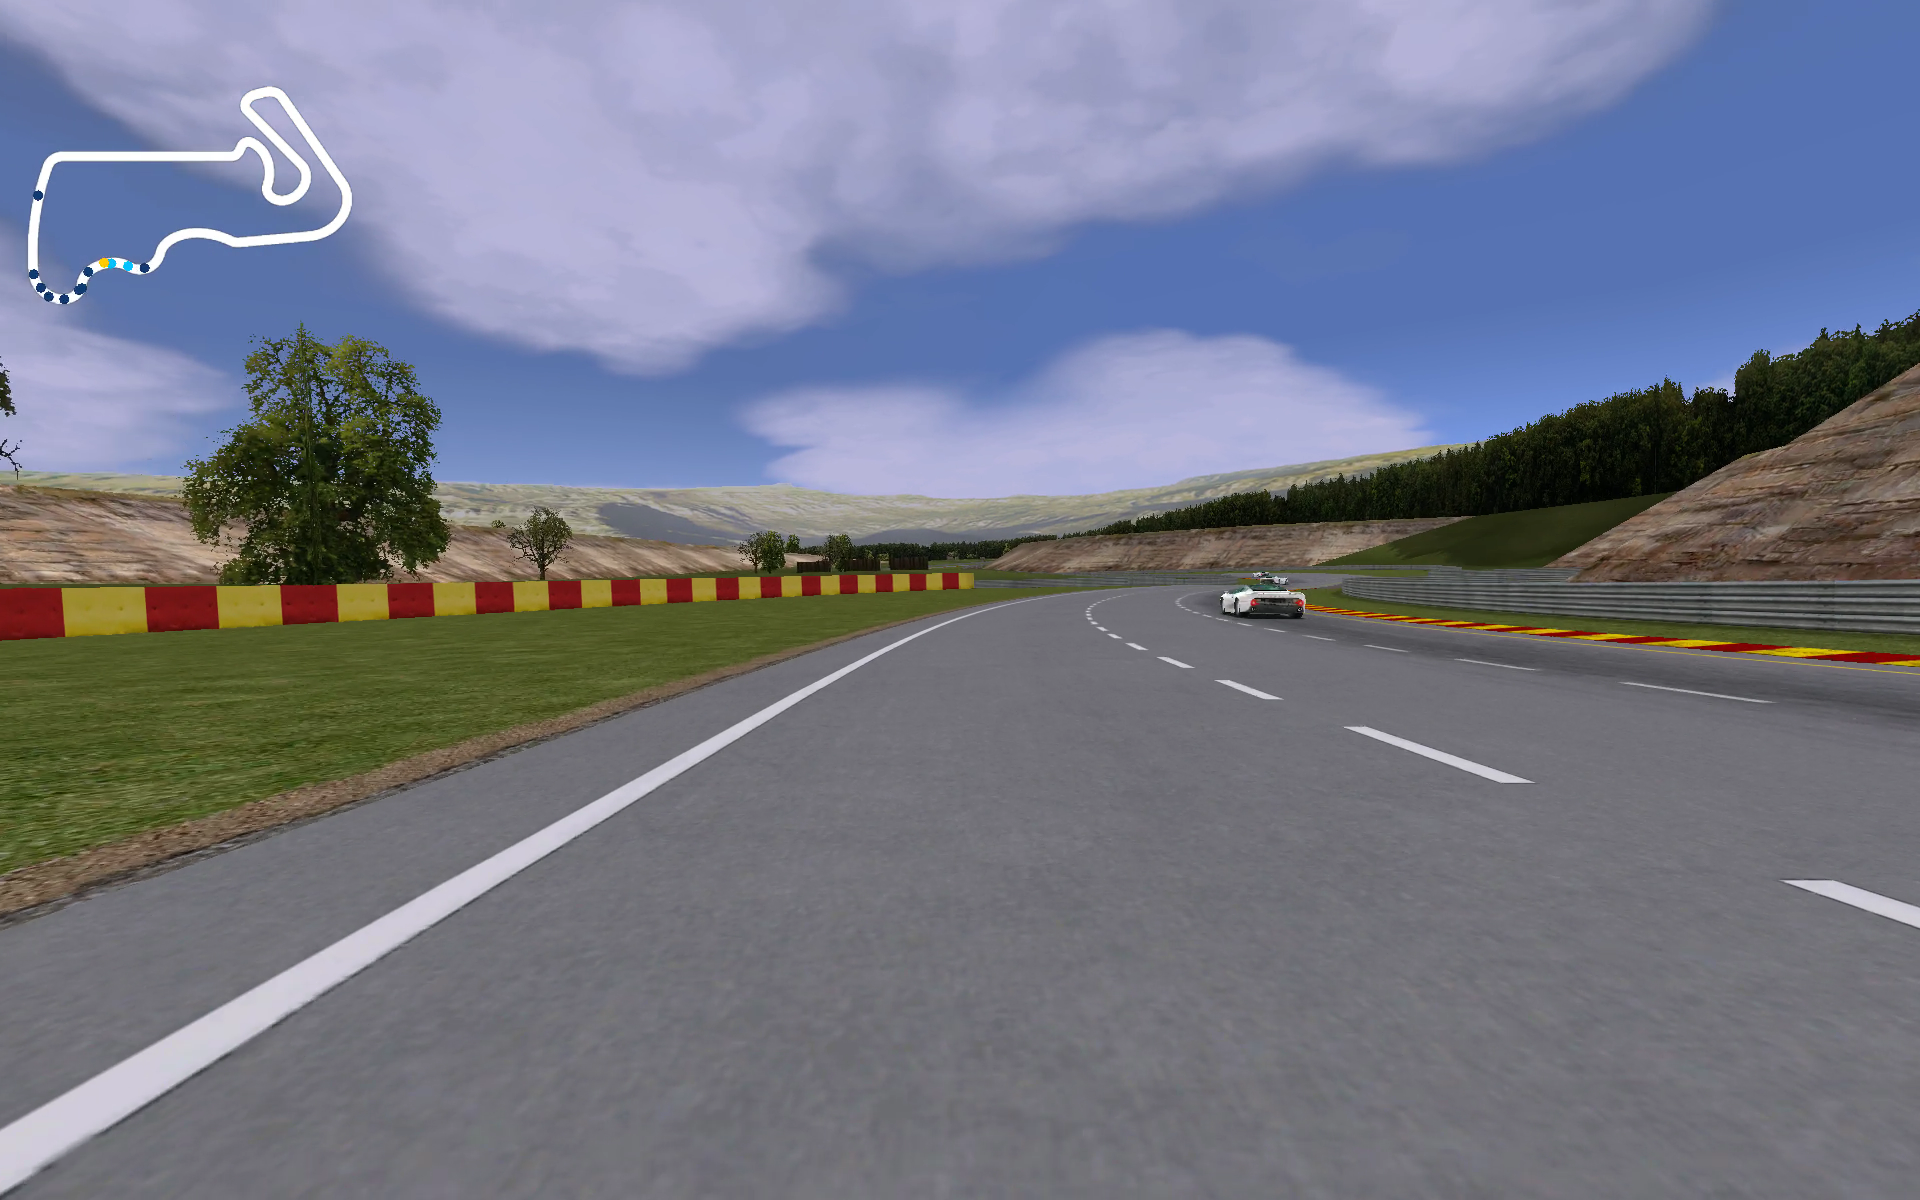car: (1221, 582, 1310, 618)
